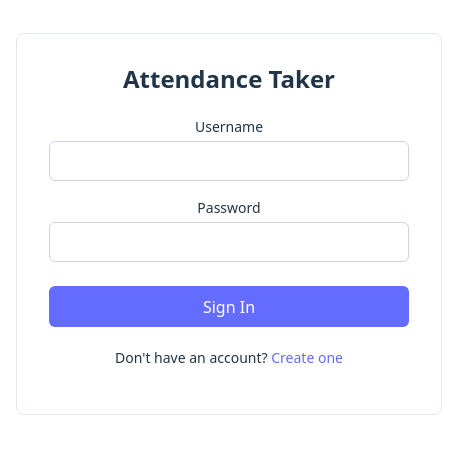
Test case: LoginView — Phase 2 › shows an error message when login rejects
The image size is (459, 449).
Type "teacher1" into the field with id "username" at (229, 161), box [49, 141, 409, 181]
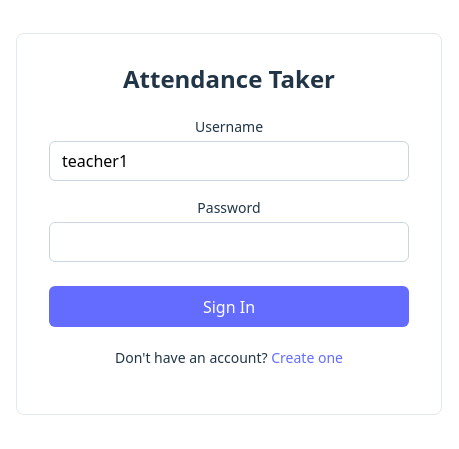
Type "wrongpassword" into the password field labelled "Password" at (229, 242), box [49, 222, 409, 262]
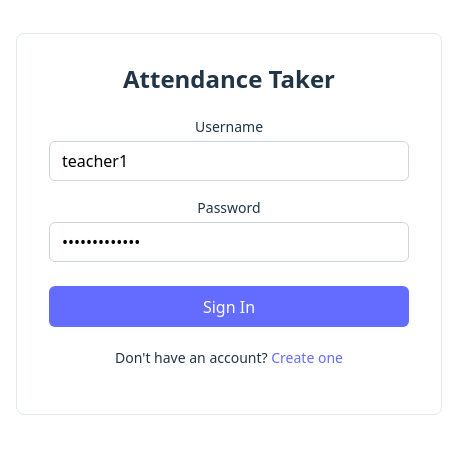
Submit the form, box [49, 116, 409, 327]
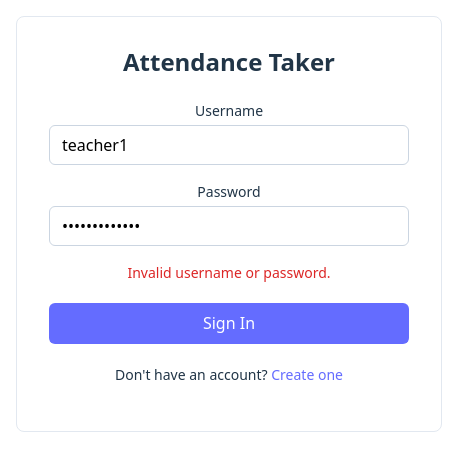
Expected: the text with class "error" shows "Invalid", [127, 263, 330, 282]
